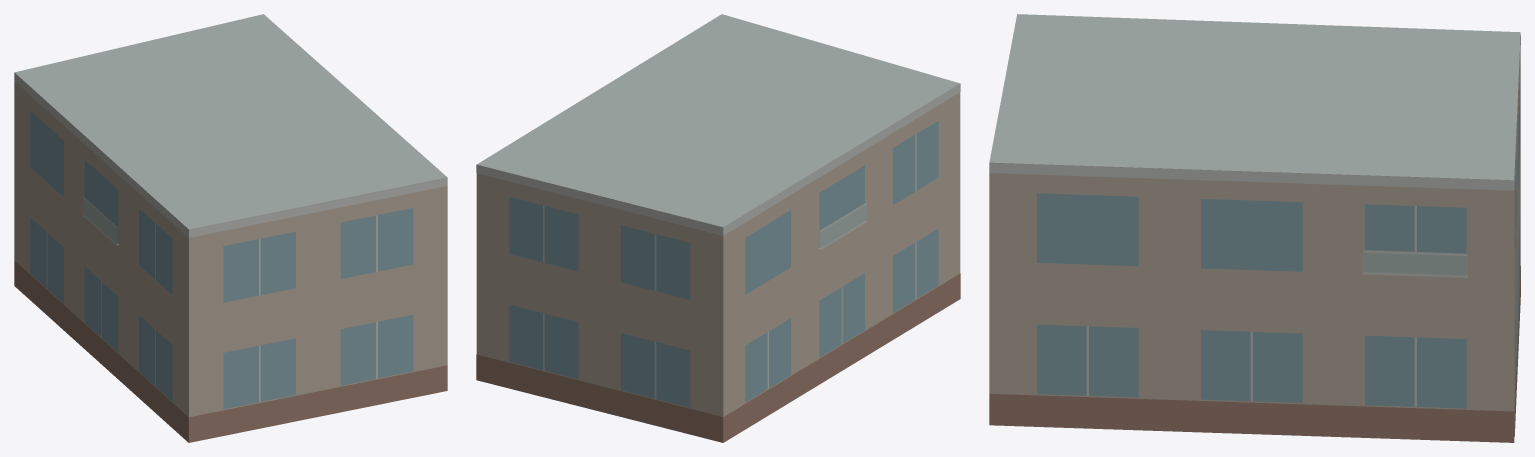
Rendered from survey-upis-32797758.glb.
3 views of the same model, side by side, from view 1: azimuth 30°, elevation 25°; view 2: azimuth 150°, elevation 25°; view 3: azimuth 270°, elevation 25° (orthographic). The views are drawn at different scales.
Parts seen in each view (by area): view 1: survey-upis-32797758.tmp; view 2: survey-upis-32797758.tmp; view 3: survey-upis-32797758.tmp.
Boxes of the visible parts, <box> form: survey-upis-32797758.tmp: <box>14,14,447,442</box>; survey-upis-32797758.tmp: <box>476,14,960,442</box>; survey-upis-32797758.tmp: <box>989,14,1520,442</box>.
Size of the model in its own units: 8.29 by 6.1 by 11.2.
